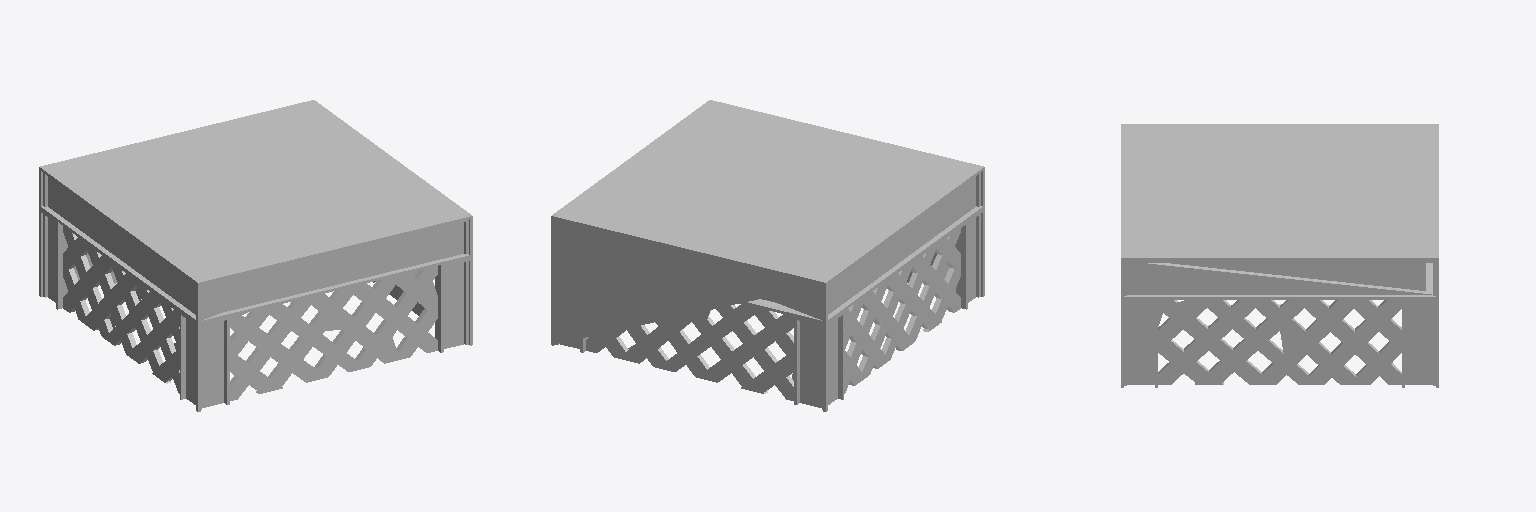
Rendered from Half_Crate__188587_.obj.
3 renders of one model, left to right at view 1: azimuth 30°, elevation 25°; view 2: azimuth 150°, elevation 25°; view 3: azimuth 270°, elevation 25°, orthographic.
Parts seen in each view (by area): view 1: Half_Crate__188587__temp_Half_Crate__188587_.002; view 2: Half_Crate__188587__temp_Half_Crate__188587_.002; view 3: Half_Crate__188587__temp_Half_Crate__188587_.002.
Boxes of the visible parts, <box> form: Half_Crate__188587__temp_Half_Crate__188587_.002: <box>39,100,472,411</box>; Half_Crate__188587__temp_Half_Crate__188587_.002: <box>551,100,984,411</box>; Half_Crate__188587__temp_Half_Crate__188587_.002: <box>1121,124,1438,387</box>.
Size of the model in its own units: 0.3334 by 0.15 by 0.3334.